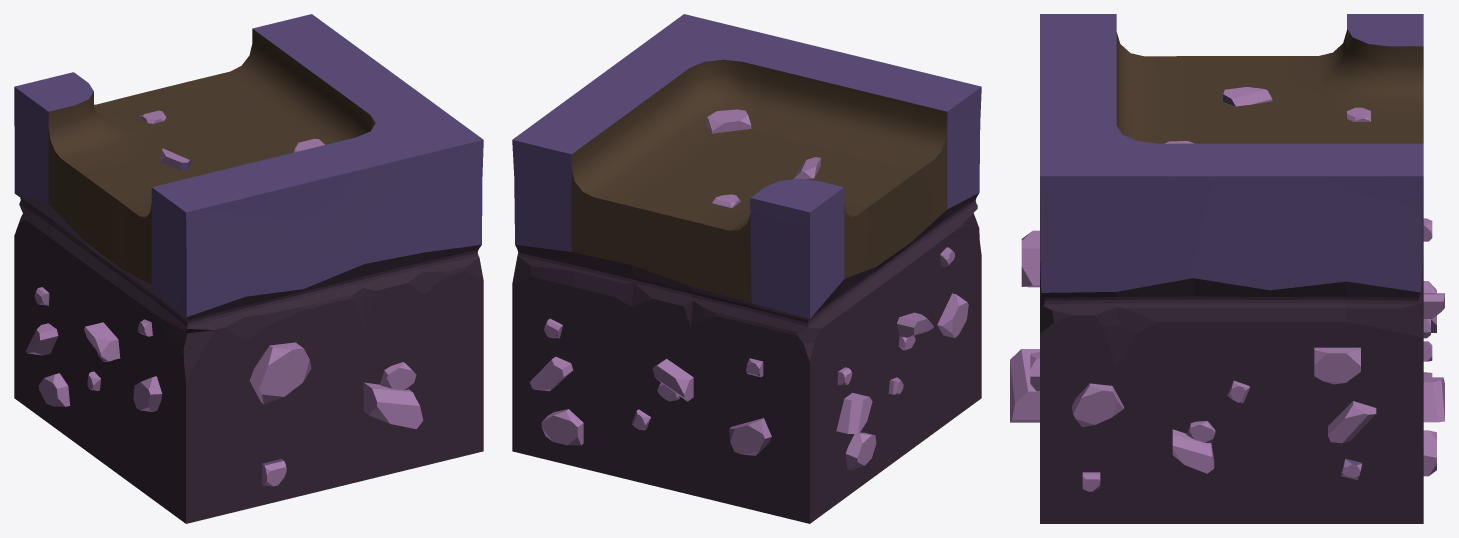
File: RoadAngle.fbx
3 renders of one model, left to right at view 1: azimuth 30°, elevation 25°; view 2: azimuth 150°, elevation 25°; view 3: azimuth 270°, elevation 25°, orthographic. The views are drawn at different scales.
Visible parts, largest first — view 1: RoadAngle; view 2: RoadAngle; view 3: RoadAngle.
Part boxes in pixels (x1,y1,x2,y2): RoadAngle: [14, 14, 483, 523]; RoadAngle: [512, 14, 981, 523]; RoadAngle: [1010, 14, 1444, 523].
Bounding box in the file's own units: 224 × 200 × 227.
